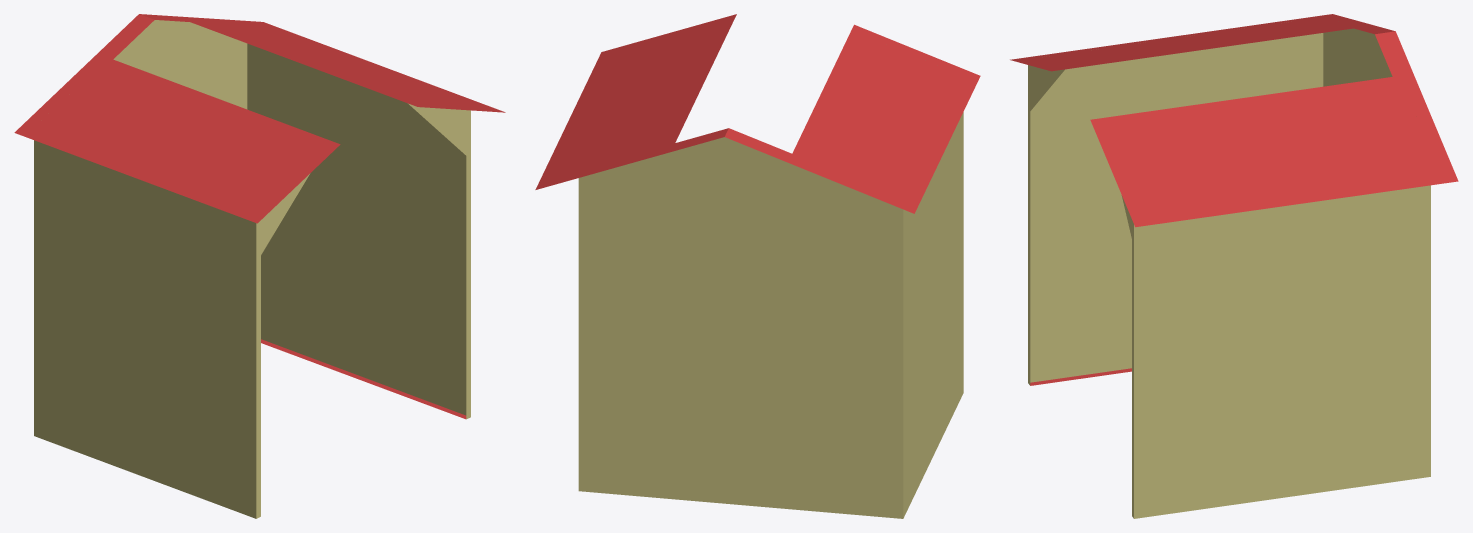
The picture shows the model from 3 angles, left to right: view 1: azimuth 30°, elevation 25°; view 2: azimuth 150°, elevation 25°; view 3: azimuth 270°, elevation 25°; orthographic projection. The views are drawn at different scales.
Size of the model in its own units: 16.4 by 15.23 by 14.26.
